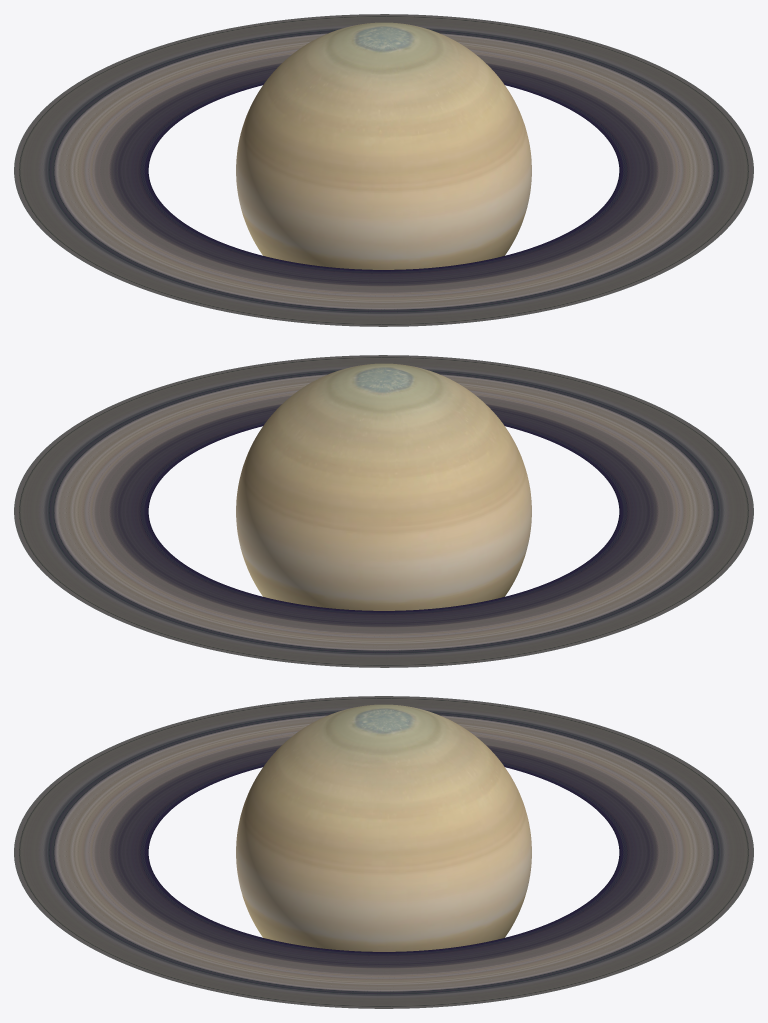
Rendered from planet_24.glb.
The picture shows the model from 3 angles, top to bottom: view 1: azimuth 30°, elevation 25°; view 2: azimuth 150°, elevation 25°; view 3: azimuth 270°, elevation 25°; orthographic projection.
Visible parts, largest first — view 1: Mesh (7), Earth; view 2: Mesh (7), Earth; view 3: Mesh (7), Earth.
Part boxes in pixels (x1,y1,x2,y2): Mesh (7): [14, 14, 753, 326]; Earth: [236, 22, 531, 269]; Mesh (7): [14, 355, 753, 667]; Earth: [236, 363, 531, 610]; Mesh (7): [14, 696, 753, 1008]; Earth: [236, 704, 531, 951].
Size of the model in its own units: 2.5 by 1 by 2.5.
2 materials, 2 textured.
